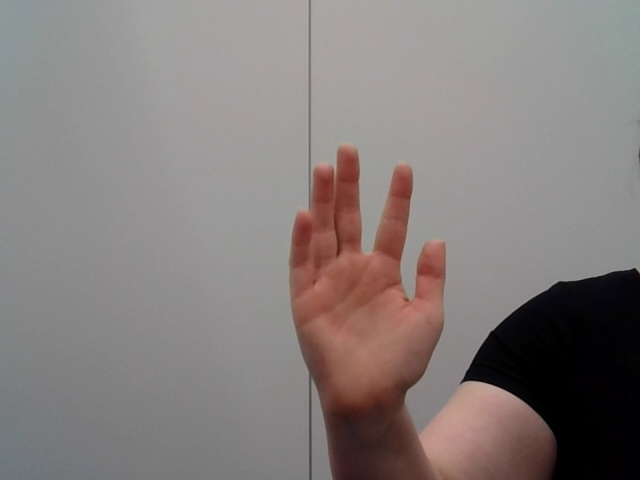nada: (260, 137, 478, 421)
